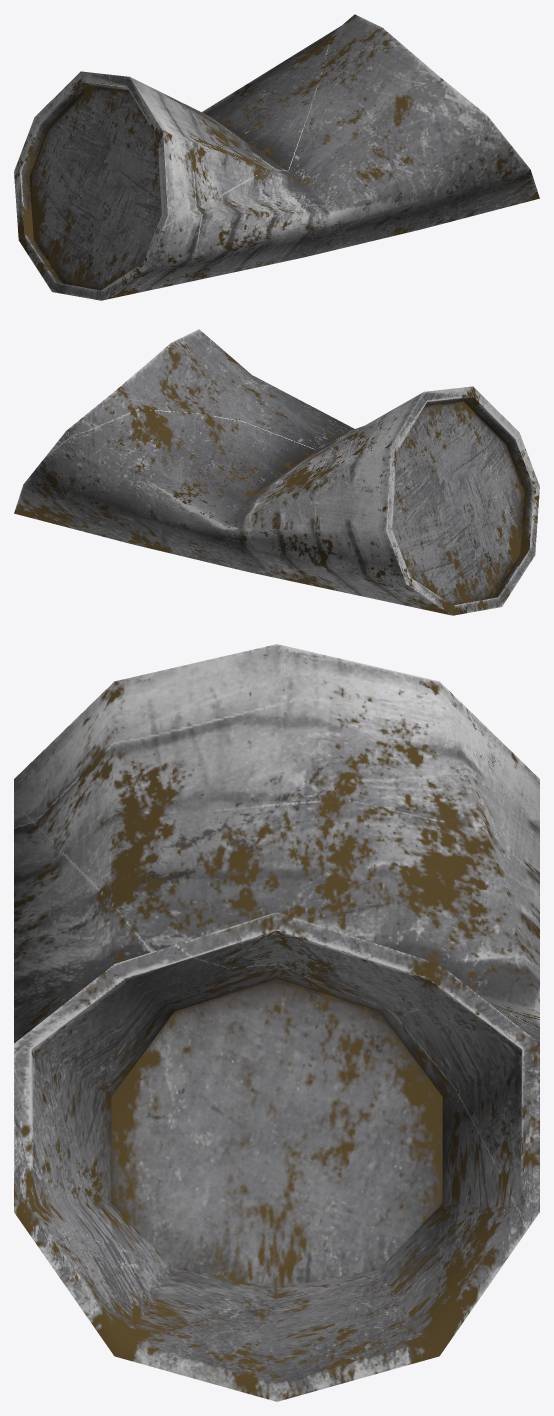
Rendered from Canold_Damaged_AA.fbx.
The picture shows the model from 3 angles, top to bottom: view 1: azimuth 30°, elevation 25°; view 2: azimuth 150°, elevation 25°; view 3: azimuth 270°, elevation 25°; orthographic projection. The views are drawn at different scales.
Parts seen in each view (by area): view 1: Canold_Damaged_AA; view 2: Canold_Damaged_AA; view 3: Canold_Damaged_AA.
Boxes of the visible parts, x1=… form: Canold_Damaged_AA: x1=14, y1=14, x2=539, y2=300; Canold_Damaged_AA: x1=14, y1=329, x2=539, y2=615; Canold_Damaged_AA: x1=14, y1=644, x2=539, y2=1401.
Size of the model in its own units: 0.0946 by 0.0476 by 0.0401.
1 material, 1 textured.
